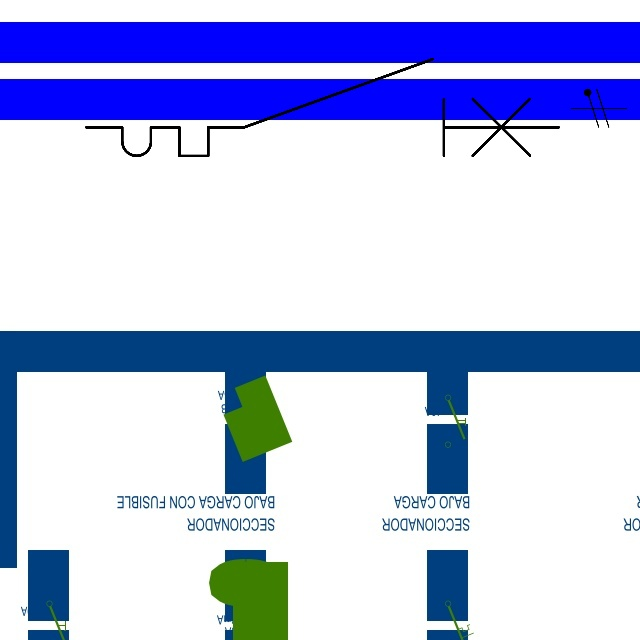interruptor_termomagnetico: (74, 47, 570, 168)
